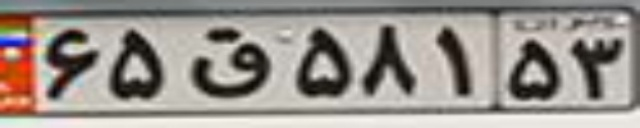1: (435, 26, 478, 96)
3: (569, 35, 627, 100)
5: (294, 25, 351, 96), (111, 29, 169, 98), (507, 38, 563, 100)
6: (44, 27, 102, 98)
8: (361, 23, 418, 94)
ghaf: (188, 27, 267, 97)
